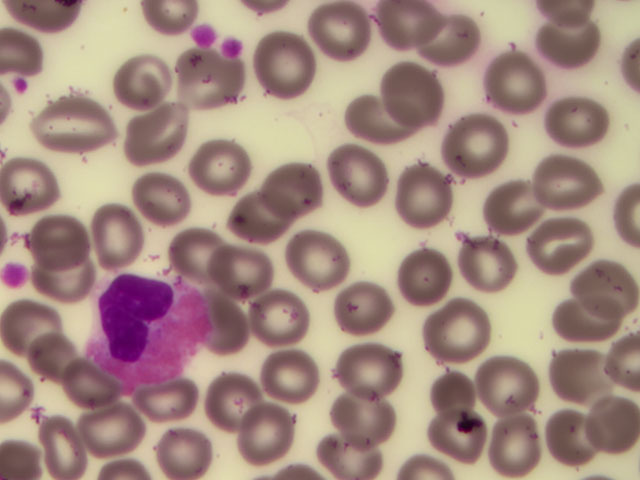Platelets: (189, 22, 220, 45), (221, 35, 249, 59), (3, 263, 25, 287), (14, 75, 28, 96)
RBC: (110, 48, 176, 109), (51, 96, 117, 157), (111, 96, 177, 157), (138, 169, 204, 230), (84, 200, 150, 261), (42, 248, 108, 309), (36, 243, 102, 304), (1, 162, 61, 221), (5, 291, 65, 350), (18, 315, 78, 374), (49, 351, 109, 410), (37, 412, 97, 471), (80, 394, 140, 453), (140, 367, 200, 426), (149, 421, 209, 480), (204, 368, 264, 427), (226, 396, 286, 455), (260, 338, 320, 397), (251, 291, 311, 350), (219, 244, 279, 303), (174, 218, 234, 277), (207, 297, 267, 356), (231, 196, 291, 255), (269, 159, 329, 218), (188, 135, 248, 194), (259, 34, 319, 93), (181, 53, 241, 112), (320, 1, 380, 60), (392, 61, 452, 120), (350, 99, 410, 158), (333, 154, 393, 213), (387, 171, 447, 230), (442, 123, 502, 182), (478, 52, 538, 111), (429, 16, 489, 75), (395, 3, 455, 62), (534, 13, 594, 72), (548, 96, 608, 155), (539, 144, 599, 203), (479, 173, 539, 232), (538, 218, 598, 277), (580, 259, 640, 318), (566, 288, 626, 347), (547, 347, 607, 406), (580, 407, 640, 466), (542, 407, 602, 466), (485, 421, 545, 480), (478, 356, 538, 415), (432, 299, 492, 358), (451, 233, 511, 292), (403, 240, 463, 299), (328, 282, 388, 341), (295, 237, 355, 296), (348, 337, 408, 396), (331, 384, 391, 443), (425, 417, 485, 476), (421, 363, 481, 422), (320, 421, 380, 480)
WBC: (85, 268, 218, 384)
